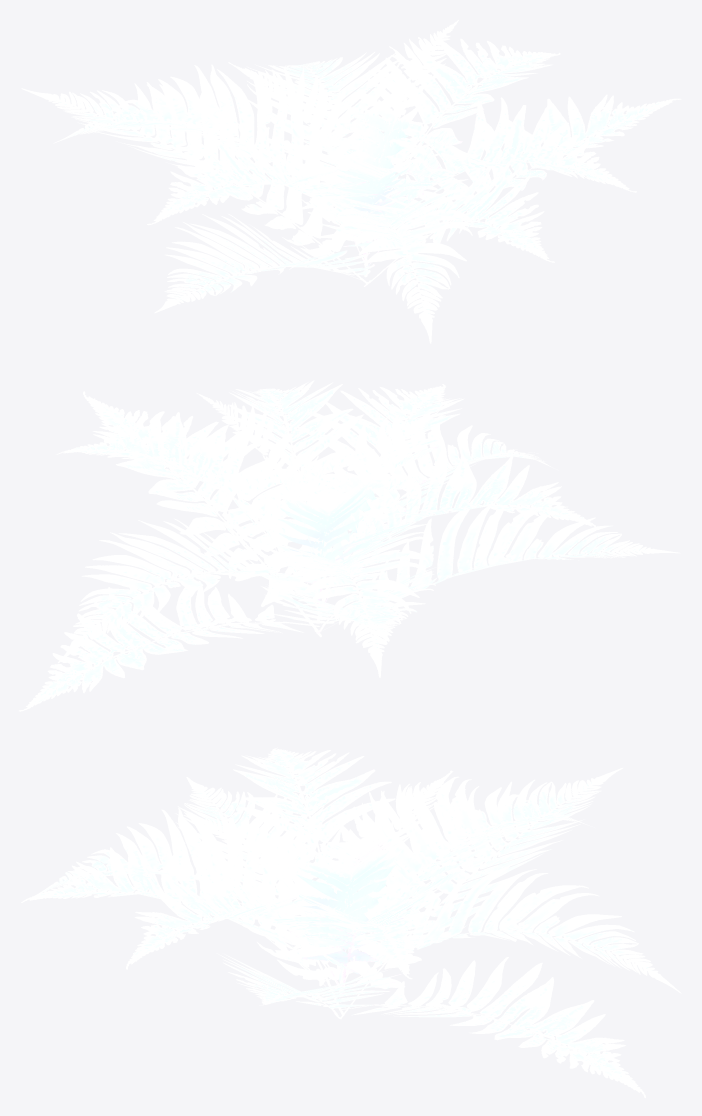
The picture shows the model from 3 angles, top to bottom: view 1: azimuth 30°, elevation 25°; view 2: azimuth 150°, elevation 25°; view 3: azimuth 270°, elevation 25°; orthographic projection. The views are drawn at different scales.
Parts seen in each view (by area): view 1: SM_FH_Fern_03_LOD0; view 2: SM_FH_Fern_03_LOD0; view 3: SM_FH_Fern_03_LOD0.
Boxes of the visible parts, x1,y1,x2,y2 form: SM_FH_Fern_03_LOD0: (21, 20, 681, 343); SM_FH_Fern_03_LOD0: (19, 380, 680, 711); SM_FH_Fern_03_LOD0: (21, 747, 681, 1097).
Size of the model in its own units: 0.73 by 0.2883 by 0.7266.
1 material, 1 textured.
